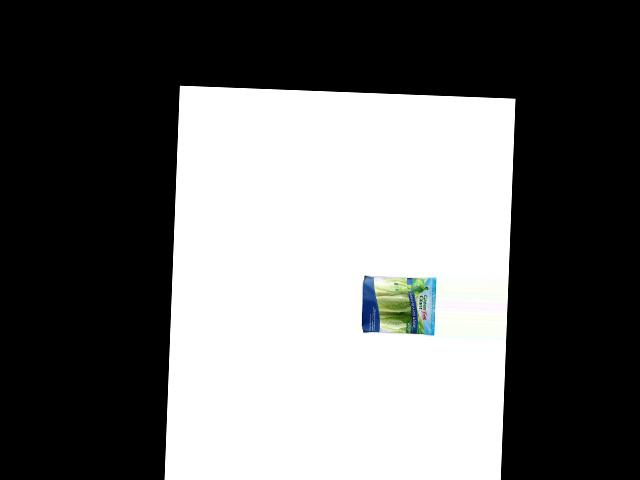lettuce: (358, 273, 433, 336)
